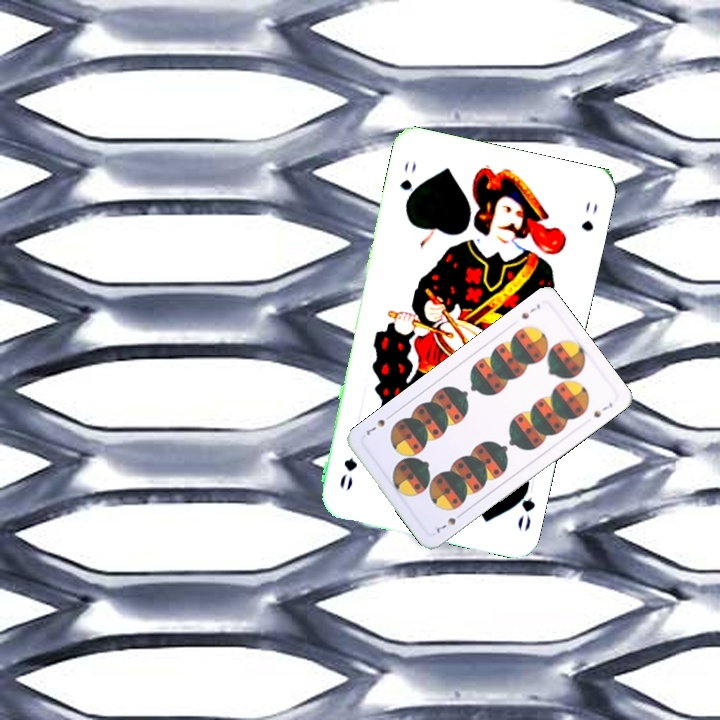GO: (510, 474, 538, 533), (396, 157, 419, 211)
S7: (432, 508, 466, 536), (517, 300, 543, 322)
